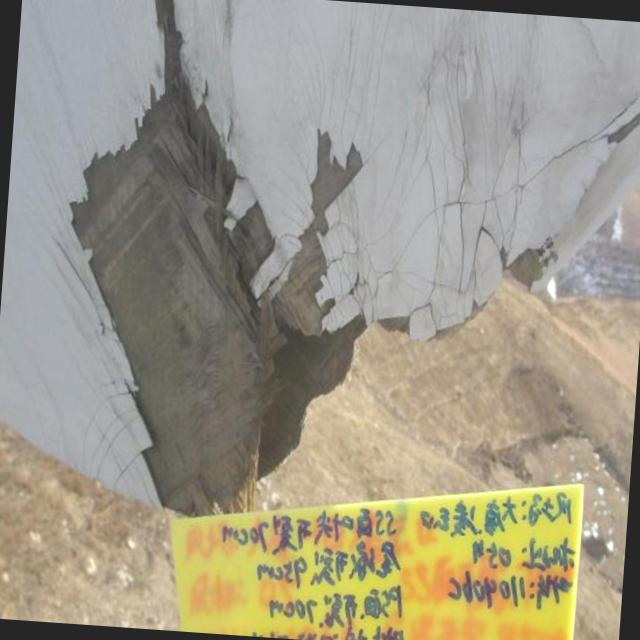crack: (42, 61, 416, 524)
